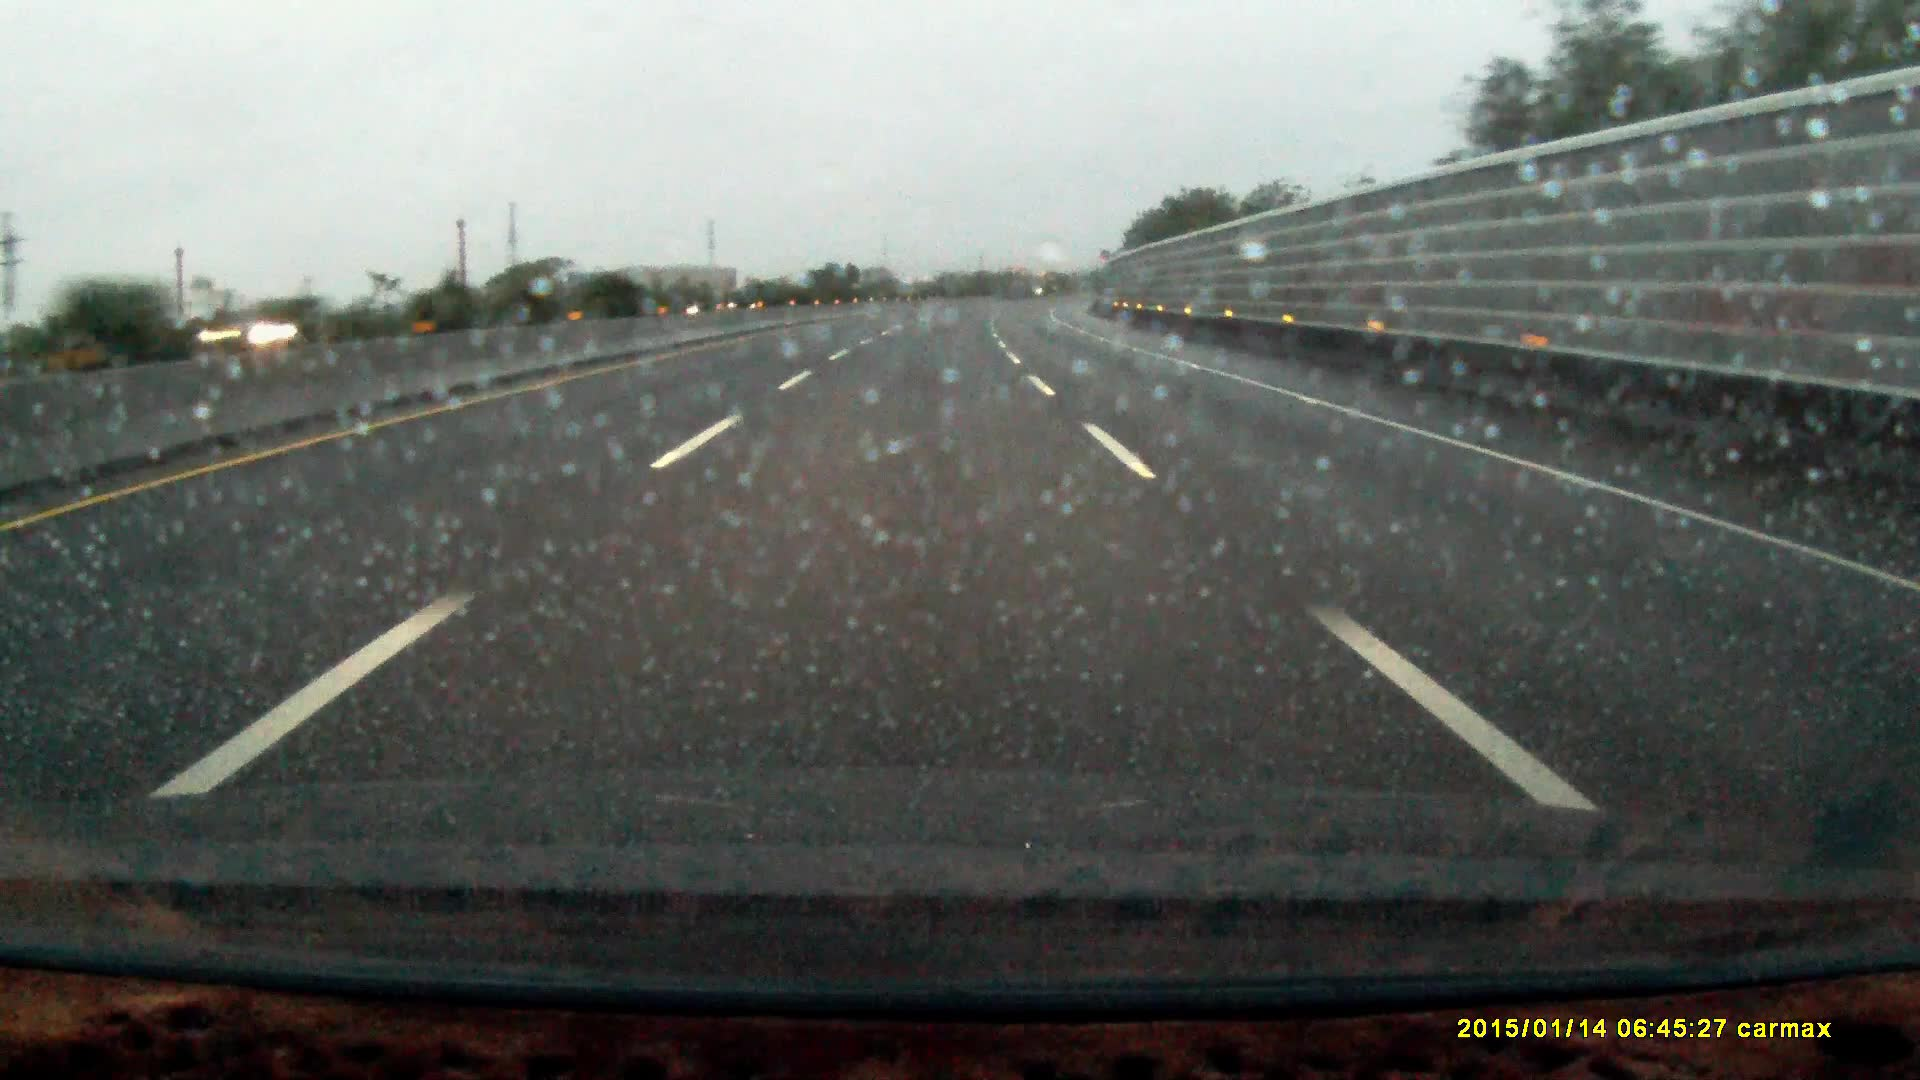vehicle: (194, 301, 371, 353)
